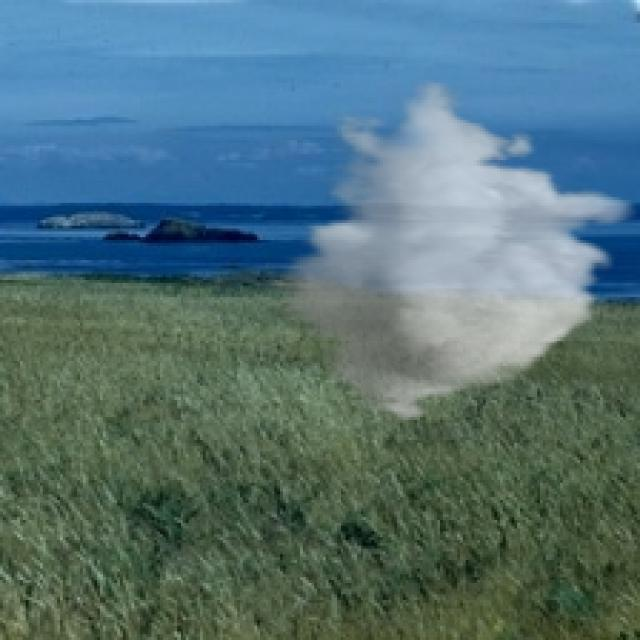Smoke: (266, 80, 638, 429)
